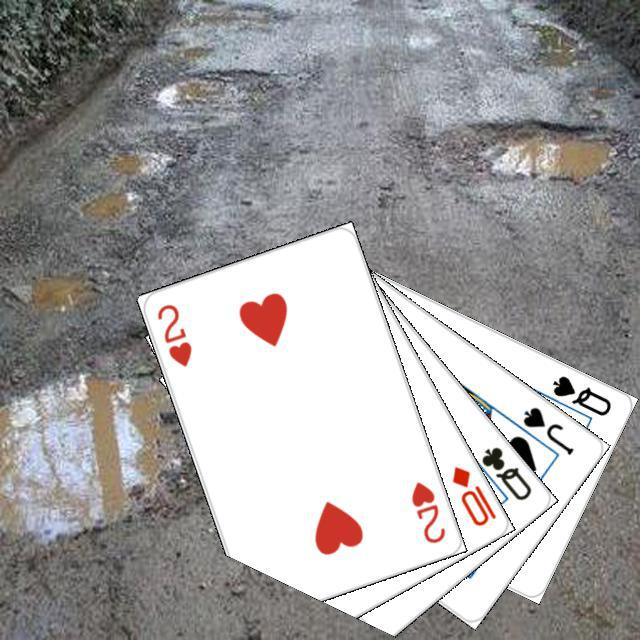10d: (446, 461, 498, 528)
2h: (152, 299, 194, 369), (406, 477, 447, 545)
Js: (517, 402, 576, 457)
Qc: (464, 441, 534, 504)
Qs: (547, 370, 613, 418)
